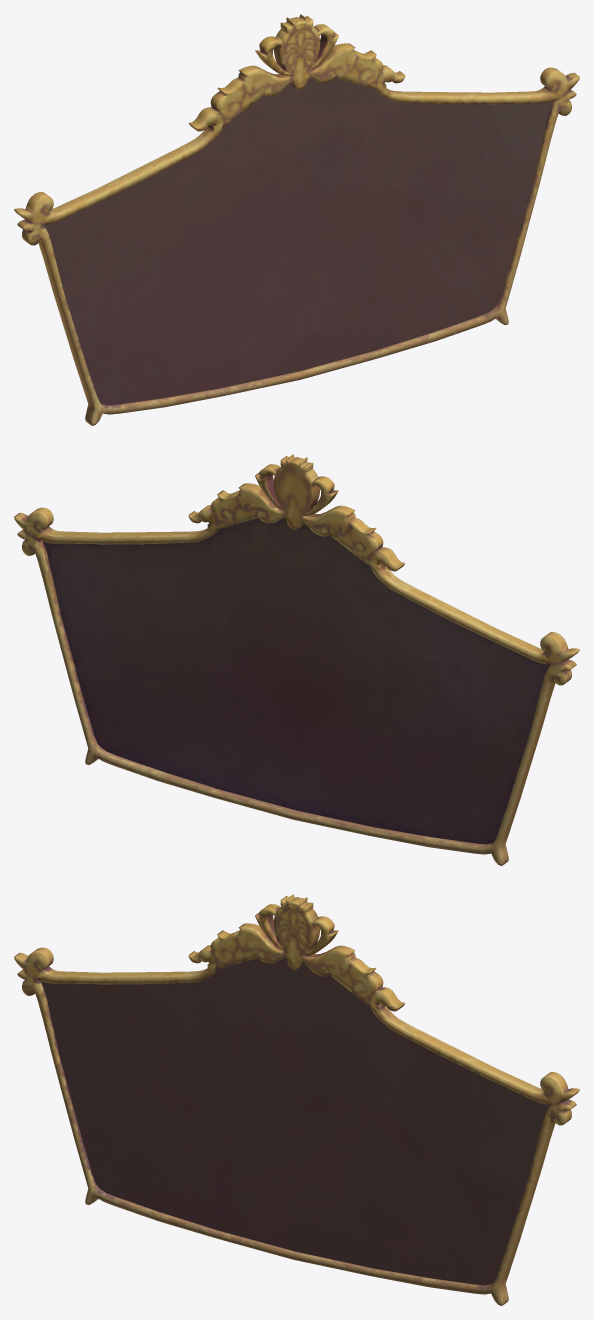
File: Mirror_Update.fbx
The picture shows the model from 3 angles, top to bottom: view 1: azimuth 30°, elevation 25°; view 2: azimuth 150°, elevation 25°; view 3: azimuth 330°, elevation 25°; orthographic projection.
Visible parts, largest first — view 1: Mirror_Frame; view 2: Mirror_Mirror, Mirror_Frame; view 3: Mirror_Frame.
Boxes of the visible parts, left/top/right/bottom form: Mirror_Frame: left=14, top=14, right=579, bottom=425; Mirror_Mirror: left=43, top=517, right=550, bottom=844; Mirror_Frame: left=14, top=454, right=579, bottom=865; Mirror_Frame: left=14, top=894, right=579, bottom=1305.
Bounding box in the file's own units: 864 × 531 × 18.91.
